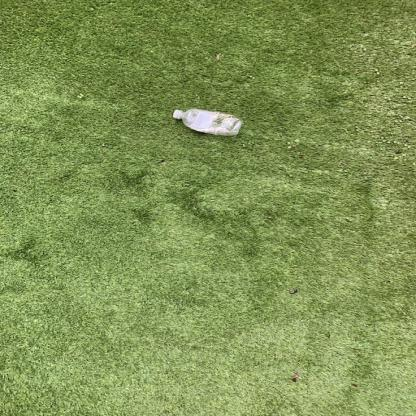trash: (173, 107, 245, 137)
